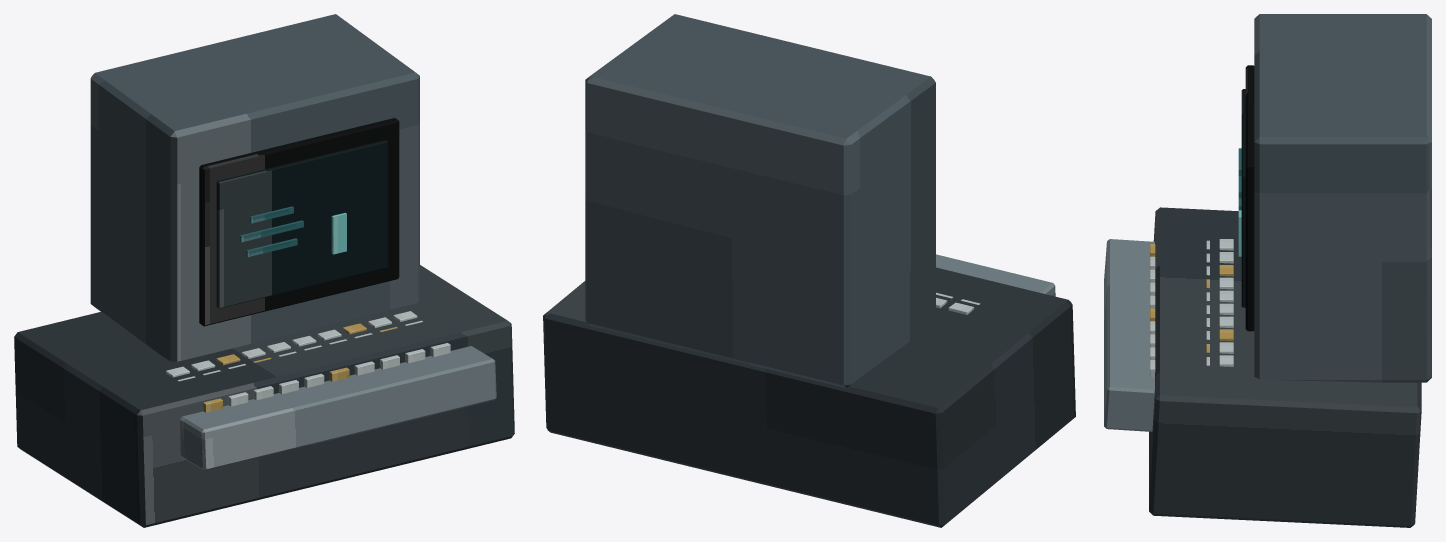
The model's file is retro_computer_terminal_charcoal.glb.
The picture shows the model from 3 angles, left to right: view 1: azimuth 30°, elevation 25°; view 2: azimuth 150°, elevation 25°; view 3: azimuth 270°, elevation 25°; orthographic projection. The views are drawn at different scales.
Parts seen in each view (by area): view 1: MonitorShell, TerminalWedge, MonitorGlow, KeyboardBody, MonitorFace, ScreenGlyph_4; view 2: MonitorShell, TerminalWedge, KeyboardBody; view 3: MonitorShell, TerminalWedge, KeyboardBody, MonitorFace, MonitorGlow.
Part boxes in pixels (x1=…): MonitorShell: x1=90, y1=14, x2=419, y2=361; TerminalWedge: x1=14, y1=265, x2=514, y2=527; MonitorGlow: x1=216, y1=140, x2=387, y2=308; KeyboardBody: x1=180, y1=346, x2=496, y2=470; MonitorFace: x1=199, y1=118, x2=399, y2=326; ScreenGlyph_4: x1=331, y1=212, x2=346, y2=254; MonitorShell: x1=585, y1=14, x2=935, y2=388; TerminalWedge: x1=543, y1=267, x2=1075, y2=527; KeyboardBody: x1=936, y1=254, x2=1055, y2=296; MonitorShell: x1=1254, y1=14, x2=1431, y2=382; TerminalWedge: x1=1149, y1=207, x2=1421, y2=527; KeyboardBody: x1=1104, y1=239, x2=1154, y2=431; MonitorFace: x1=1245, y1=65, x2=1254, y2=331; MonitorGlow: x1=1241, y1=89, x2=1245, y2=307.
Size of the model in its own units: 1.02 by 0.914 by 0.7379.
1 material, 1 textured.
